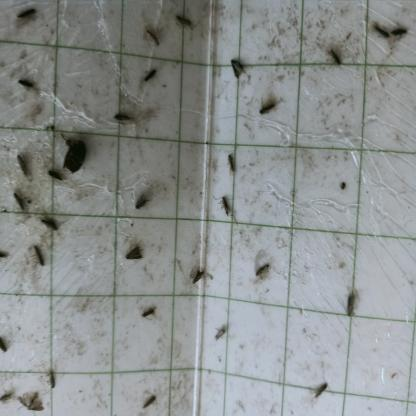prays_oleae: (16, 382, 46, 414), (226, 42, 247, 82), (116, 237, 144, 264), (254, 90, 279, 120), (8, 188, 30, 219), (371, 21, 392, 52), (14, 148, 33, 181), (185, 265, 207, 292), (46, 156, 65, 187), (176, 8, 198, 34), (31, 239, 48, 272), (36, 210, 58, 235), (16, 72, 36, 99), (324, 43, 344, 70), (216, 196, 235, 224), (344, 291, 357, 329), (144, 295, 158, 330), (313, 376, 329, 406), (218, 156, 240, 176), (210, 322, 226, 349), (114, 105, 136, 124), (254, 261, 274, 281), (146, 24, 162, 48), (390, 22, 406, 46), (0, 385, 14, 412), (46, 366, 60, 392), (142, 62, 160, 82), (140, 396, 158, 412), (14, 7, 36, 20), (137, 190, 150, 212), (0, 329, 10, 357), (0, 246, 10, 266)
